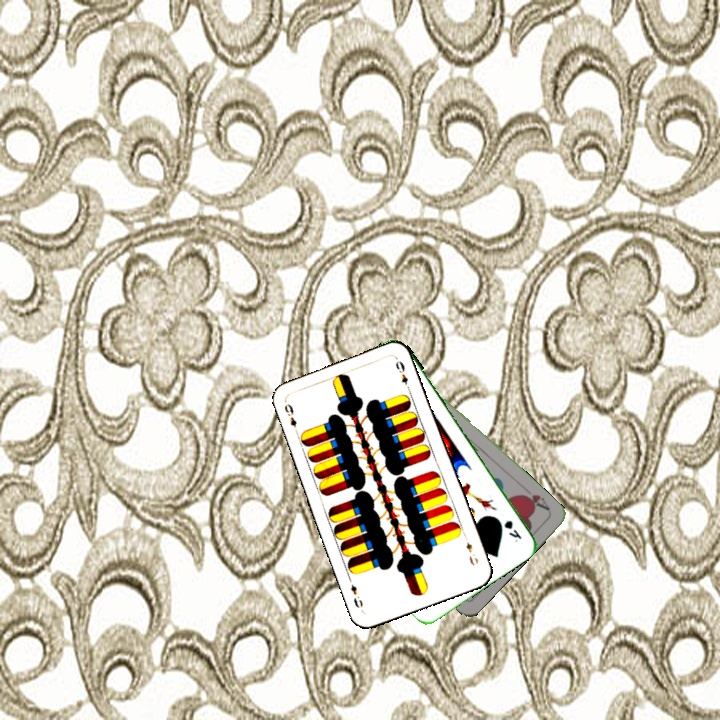E9: (280, 399, 300, 430), (462, 538, 481, 568)
GK: (500, 516, 524, 545)
HA: (517, 490, 553, 513)
